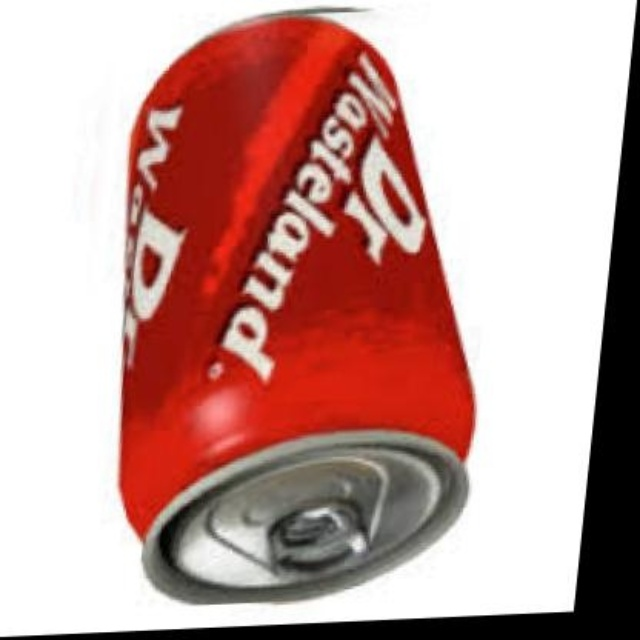trash: (120, 12, 472, 602)
